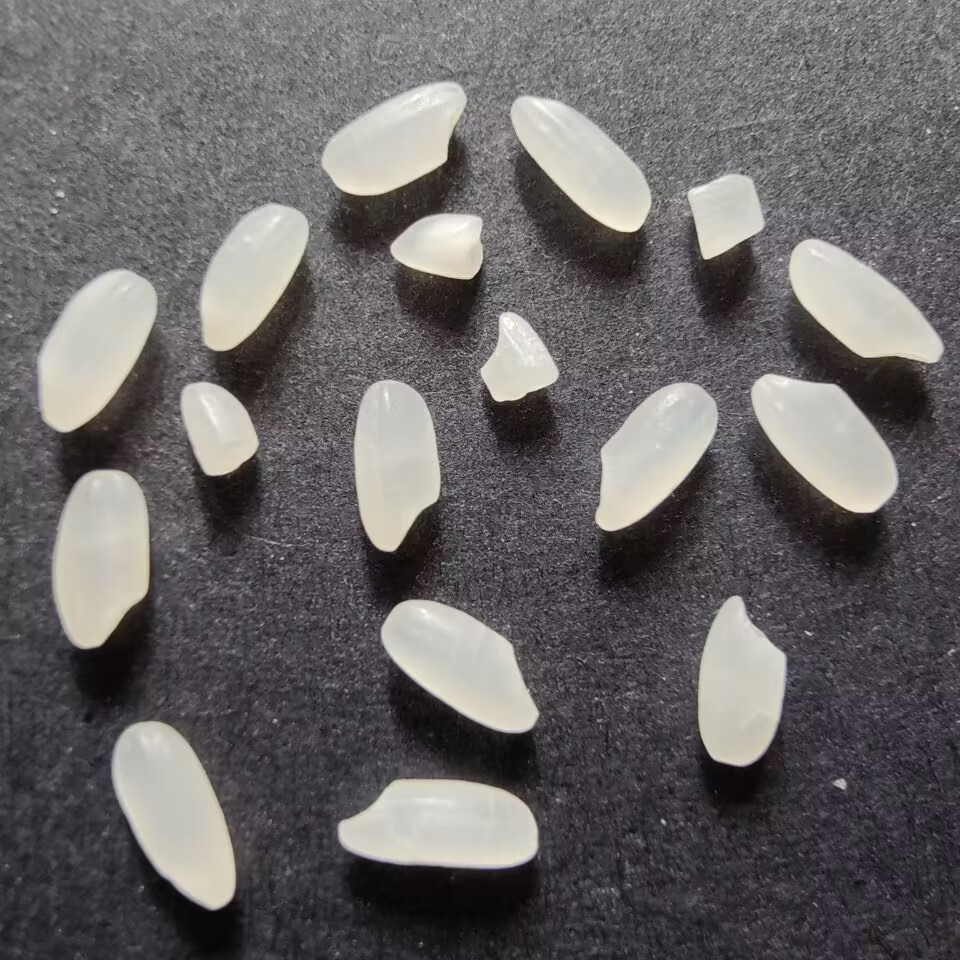broken: (177, 379, 263, 483), (473, 308, 561, 404), (684, 169, 764, 264), (384, 209, 488, 282)
rice: (109, 718, 237, 914), (378, 595, 538, 738), (751, 372, 902, 520), (32, 265, 160, 435), (508, 91, 657, 235), (786, 237, 944, 369), (331, 773, 539, 872), (591, 381, 718, 535), (51, 466, 155, 654), (318, 78, 469, 199), (195, 200, 309, 355), (694, 594, 789, 768), (352, 377, 443, 558)
